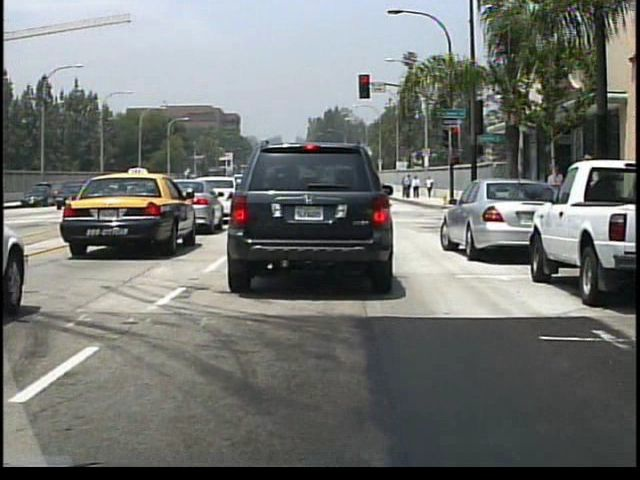person: (544, 166, 566, 223), (425, 174, 436, 201), (403, 174, 413, 200), (413, 175, 421, 200)
